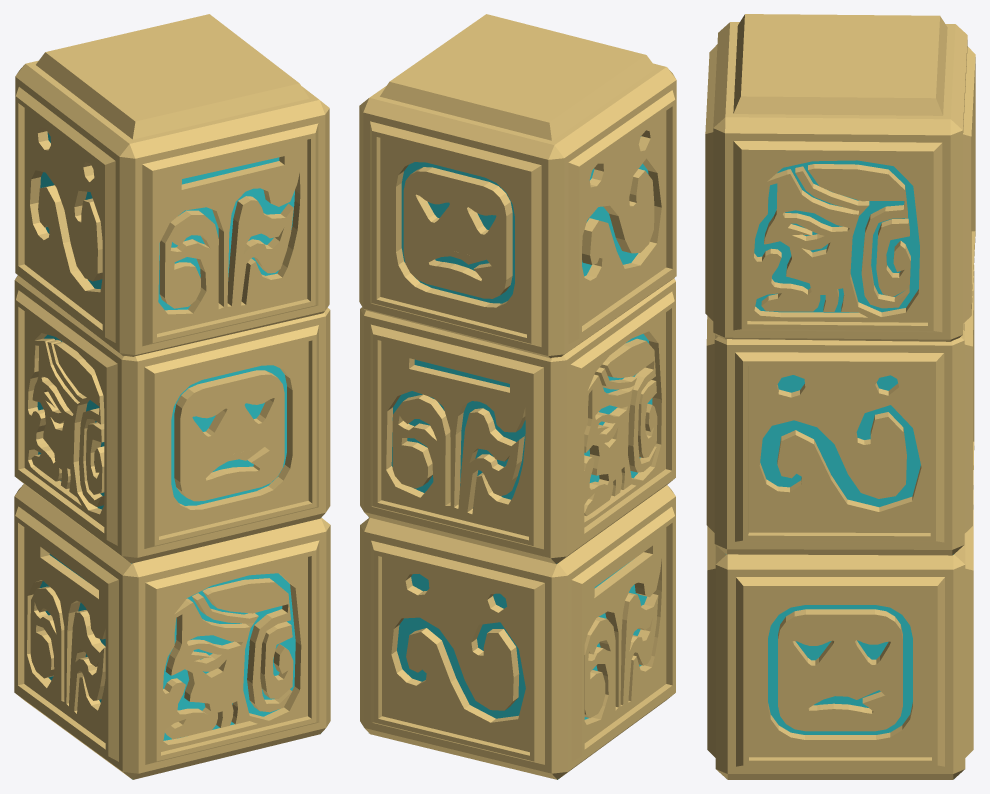
Rendered from pilares2.fbx.
3 views of the same model, side by side, from view 1: azimuth 30°, elevation 25°; view 2: azimuth 150°, elevation 25°; view 3: azimuth 270°, elevation 25° (orthographic). The views are drawn at different scales.
Parts seen in each view (by area): view 1: Cube.005, Cube, Cube.004, Cube.003, Cube.006, Cube.002; view 2: Cube.005, Cube, Cube.004, Cube.003, Cube.006, Cube.002; view 3: Cube.005, Cube, Cube.004, Cube.006, Cube.002, Cube.003.
Boxes of the visible parts, x1,y1,x2,y2 form: Cube.005: (15, 14, 329, 356); Cube: (14, 484, 330, 779); Cube.004: (14, 275, 330, 563); Cube.003: (40, 554, 295, 779); Cube.006: (40, 132, 294, 310); Cube.002: (37, 334, 286, 563); Cube.005: (359, 14, 676, 358); Cube: (360, 485, 675, 779); Cube.004: (360, 278, 675, 564); Cube.003: (397, 562, 646, 779); Cube.006: (401, 136, 648, 303); Cube.002: (391, 334, 652, 563); Cube.005: (705, 14, 975, 341); Cube: (707, 490, 973, 779); Cube.004: (706, 265, 974, 555); Cube.006: (754, 160, 919, 312); Cube.002: (726, 375, 953, 554); Cube.003: (768, 605, 912, 734).
Size of the model in its own units: 216 by 598 by 216.
